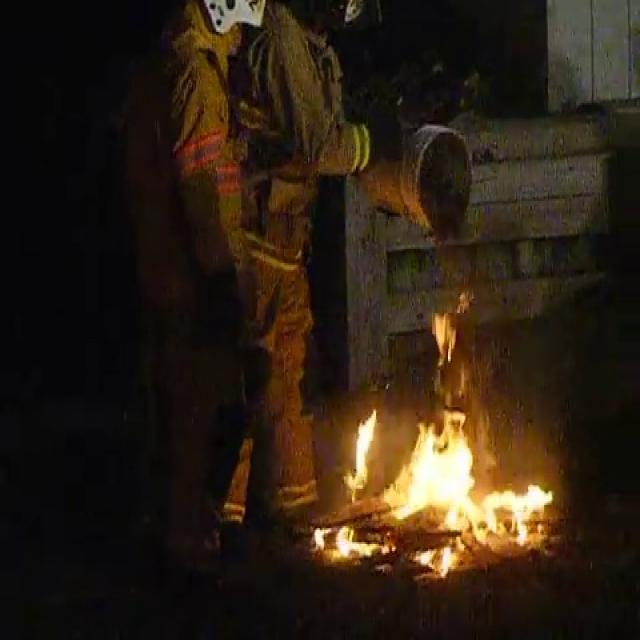Fire: (318, 380, 546, 576)
